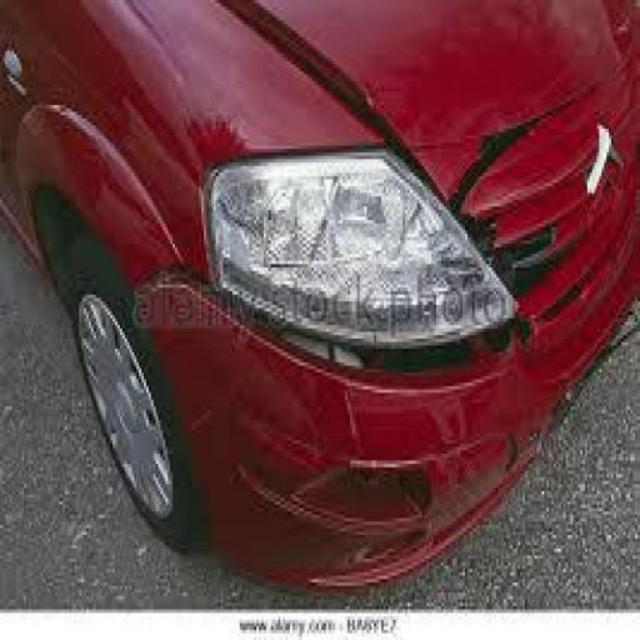dislocated part: (129, 5, 574, 400)
